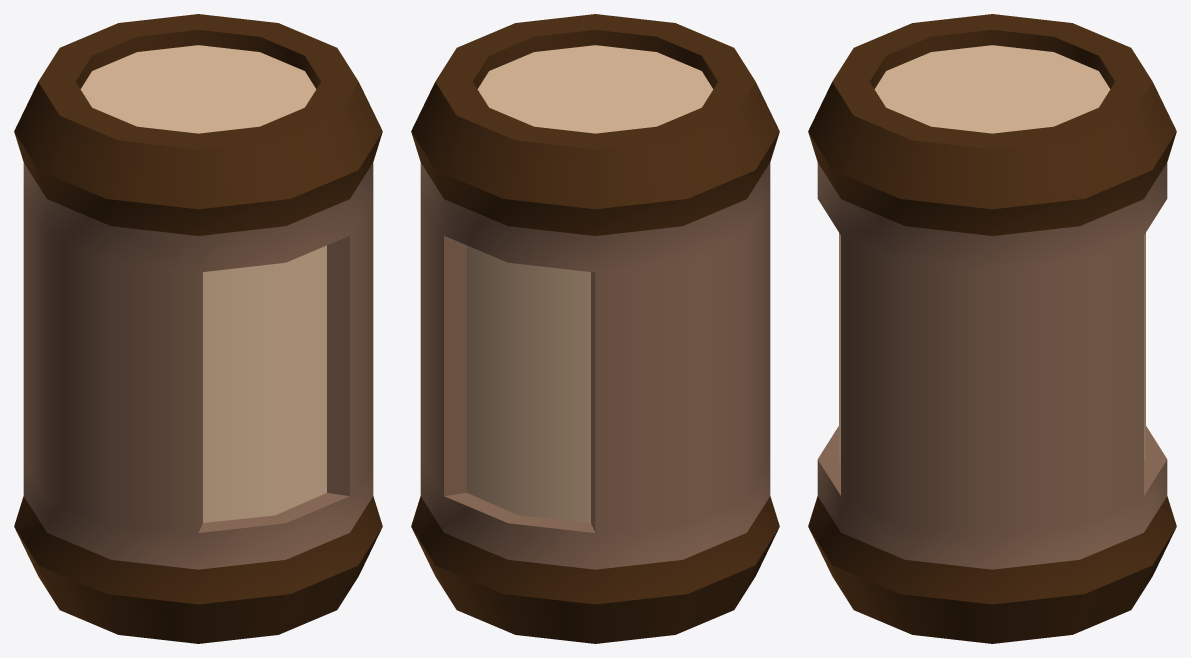
File: quaternius-ultimate-space-pack-pickup-jar-transformed.glb
3 views of the same model, side by side, from view 1: azimuth 30°, elevation 25°; view 2: azimuth 150°, elevation 25°; view 3: azimuth 270°, elevation 25° (orthographic).
Parts seen in each view (by area): view 1: Pickup_Jar; view 2: Pickup_Jar; view 3: Pickup_Jar.
Boxes of the visible parts, left/top/right/bottom form: Pickup_Jar: left=14, top=14, right=382, bottom=643; Pickup_Jar: left=411, top=14, right=779, bottom=643; Pickup_Jar: left=808, top=14, right=1176, bottom=643.
Bounding box in the file's own units: 0.6919 × 1.02 × 0.6919.
1 material, 1 textured.
